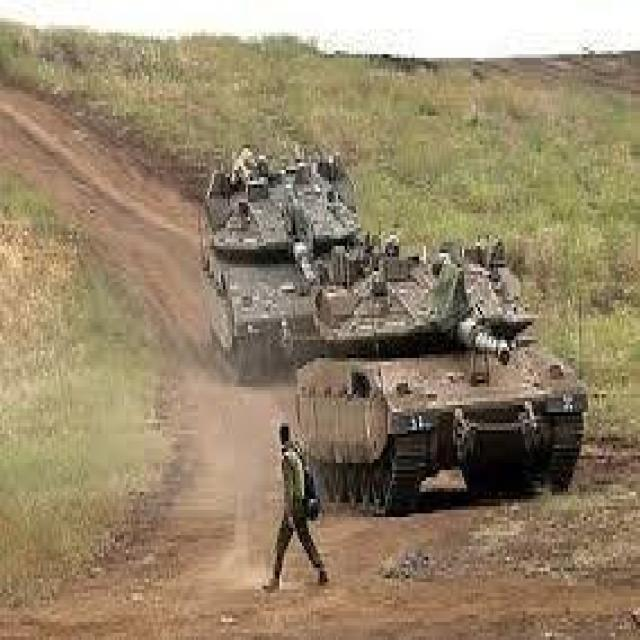MIL_MBT: (282, 168, 599, 512), (180, 98, 374, 376)
